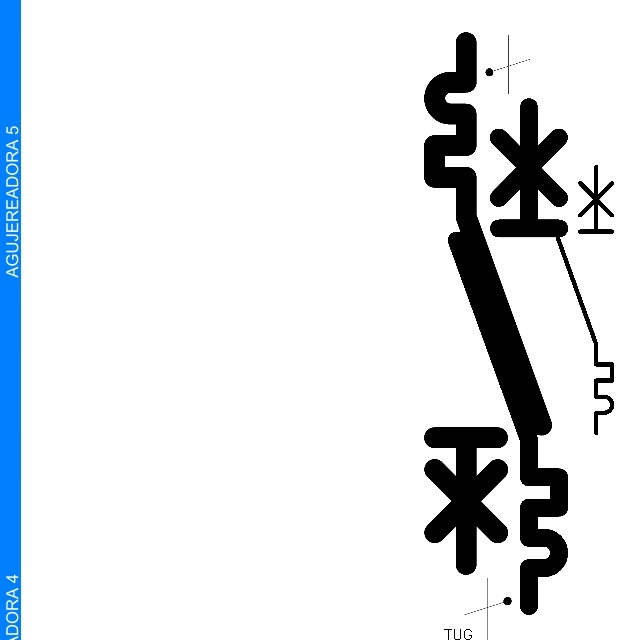interruptor_termomagnetico: (421, 29, 555, 577), (444, 94, 572, 619), (551, 160, 619, 440)
